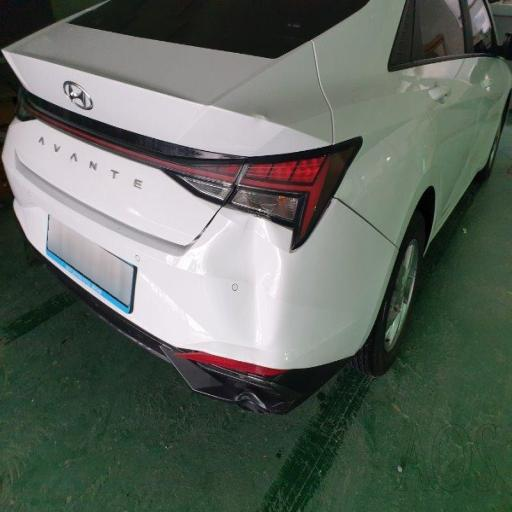dent: (175, 188, 306, 351)
